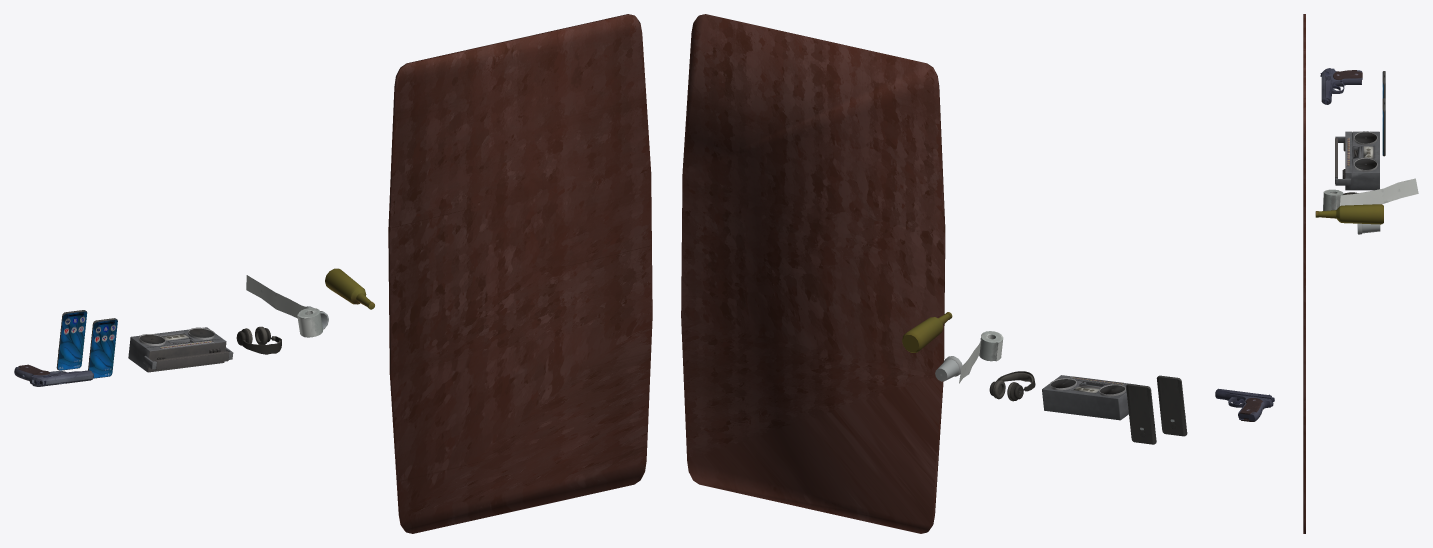
File: itens_fix.fbx
The picture shows the model from 3 angles, left to right: view 1: azimuth 30°, elevation 25°; view 2: azimuth 150°, elevation 25°; view 3: azimuth 270°, elevation 25°; orthographic projection. The views are drawn at different scales.
Visible parts, largest first — view 1: Tapete.002, BoomBox.001, Cylinder.002, Celular.002, Celular.001, Pistola.001, Cerveja.001, Headset.001; view 2: Tapete.002, BoomBox.001, Celular.001, Celular.002, Pistola.001, Cerveja.001, Cylinder.002, Headset.001; view 3: BoomBox.001, Tapete.002, Cylinder.002, Cerveja.001, Pistola.001, Celular.001, Copo.001.
Boxes of the visible parts, x1,y1,x2,y2 form: Tapete.002: (388,14,652,533); BoomBox.001: (128,327,233,372); Cylinder.002: (246,275,322,337); Celular.002: (56,310,87,370); Celular.001: (88,318,117,378); Pistola.001: (14,364,93,386); Cerveja.001: (325,268,374,309); Headset.001: (236,326,281,354); Tapete.002: (681,14,945,533); BoomBox.001: (1042,375,1135,420); Celular.001: (1126,384,1156,444); Celular.002: (1156,375,1187,436); Pistola.001: (1215,388,1274,421); Cerveja.001: (902,312,952,352); Cylinder.002: (959,331,1003,383); Headset.001: (989,371,1035,401); BoomBox.001: (1335,131,1379,190); Tapete.002: (1303,14,1305,533); Cylinder.002: (1323,178,1418,210); Cerveja.001: (1315,204,1383,224); Pistola.001: (1320,68,1362,104); Celular.001: (1382,98,1385,156); Copo.001: (1357,223,1380,234).
Bounding box in the file's own units: 957 × 717 × 178.
